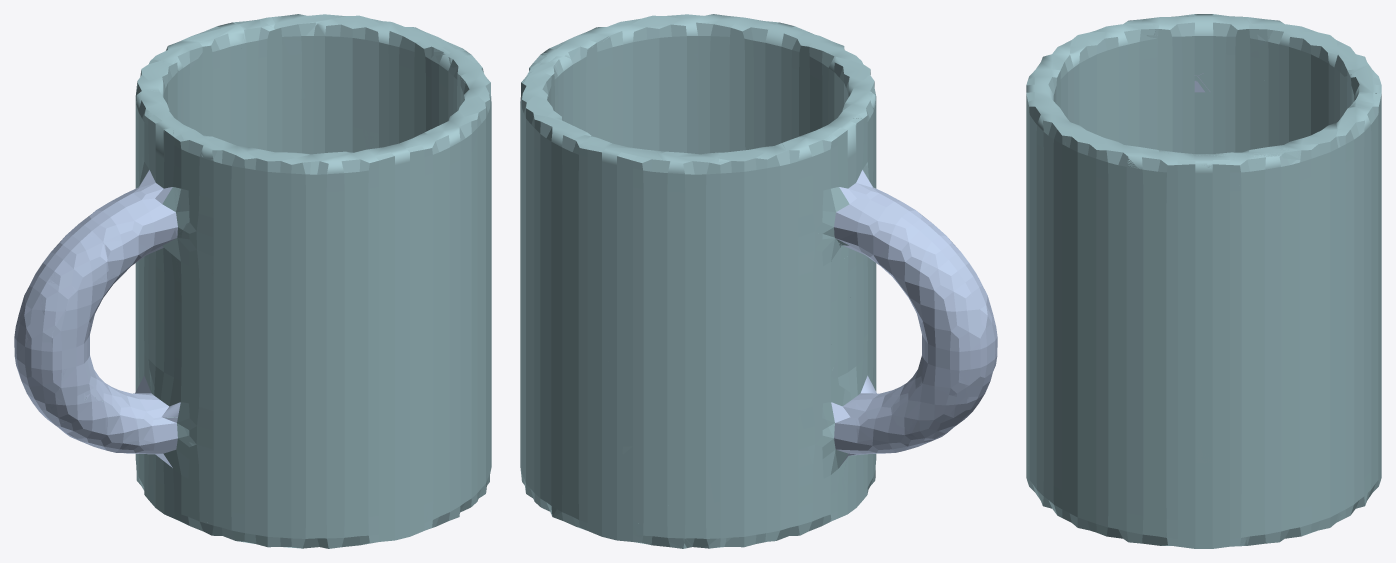
File: mug.fbx
3 views of the same model, side by side, from view 1: azimuth 30°, elevation 25°; view 2: azimuth 150°, elevation 25°; view 3: azimuth 270°, elevation 25° (orthographic).
Parts seen in each view (by area): view 1: Cylinder, Cylinder_cell.040, Cylinder_cell.237, Cylinder_cell.214, Cylinder_cell.153, Cylinder_cell.225, Cylinder_cell.215, Cylinder_cell.112, Cylinder_cell.051, Cylinder_cell.230, Cylinder_cell.080, Cylinder_cell.085 (+32 smaller); view 2: Cylinder, Cylinder_cell.178, Cylinder_cell.017, Cylinder_cell.101, Cylinder_cell.012, Cylinder_cell.208, Cylinder_cell.286_cell.004, Cylinder_cell.081, Cylinder_cell.001, Cylinder_cell.230, Cylinder_cell.286_cell.003, Cylinder_cell.077 (+33 smaller); view 3: Cylinder, Cylinder_cell.215, Cylinder_cell.077, Cylinder_cell.145, Cylinder_cell.078, Cylinder_cell.036, Cylinder_cell.173, Cylinder_cell.184, Cylinder_cell.242, Cylinder_cell.185, Cylinder_cell.170, Cylinder_cell.021 (+36 smaller).
Part boxes in pixels (x1,y1,x2,y2): Cylinder: [14, 16, 491, 548]; Cylinder_cell.040: [334, 267, 450, 369]; Cylinder_cell.237: [304, 15, 442, 87]; Cylinder_cell.214: [305, 221, 397, 328]; Cylinder_cell.153: [213, 19, 305, 113]; Cylinder_cell.225: [214, 150, 310, 223]; Cylinder_cell.215: [440, 148, 488, 278]; Cylinder_cell.112: [307, 156, 395, 220]; Cylinder_cell.051: [322, 71, 421, 138]; Cylinder_cell.230: [374, 186, 446, 275]; Cylinder_cell.080: [400, 120, 478, 203]; Cylinder_cell.085: [180, 158, 256, 238]; Cylinder: [520, 14, 997, 548]; Cylinder_cell.178: [576, 347, 675, 445]; Cylinder_cell.017: [706, 374, 805, 471]; Cylinder_cell.101: [526, 389, 605, 493]; Cylinder_cell.012: [665, 373, 768, 447]; Cylinder_cell.208: [706, 459, 775, 537]; Cylinder_cell.286_cell.004: [606, 442, 676, 492]; Cylinder_cell.081: [790, 277, 850, 379]; Cylinder_cell.001: [770, 414, 816, 500]; Cylinder_cell.230: [725, 64, 798, 146]; Cylinder_cell.286_cell.003: [616, 489, 686, 548]; Cylinder_cell.077: [520, 311, 557, 423]; Cylinder: [1026, 14, 1381, 548]; Cylinder_cell.215: [1032, 157, 1089, 292]; Cylinder_cell.077: [1296, 358, 1367, 473]; Cylinder_cell.145: [1253, 462, 1338, 541]; Cylinder_cell.078: [1237, 379, 1301, 484]; Cylinder_cell.036: [1065, 137, 1183, 219]; Cylinder_cell.173: [1086, 215, 1165, 302]; Cylinder_cell.184: [1183, 293, 1264, 382]; Cylinder_cell.242: [1097, 300, 1189, 379]; Cylinder_cell.185: [1035, 257, 1101, 376]; Cylinder_cell.170: [1214, 327, 1310, 430]; Cylinder_cell.021: [1198, 50, 1268, 115].
Size of the model in its own units: 289 by 239 by 199.
